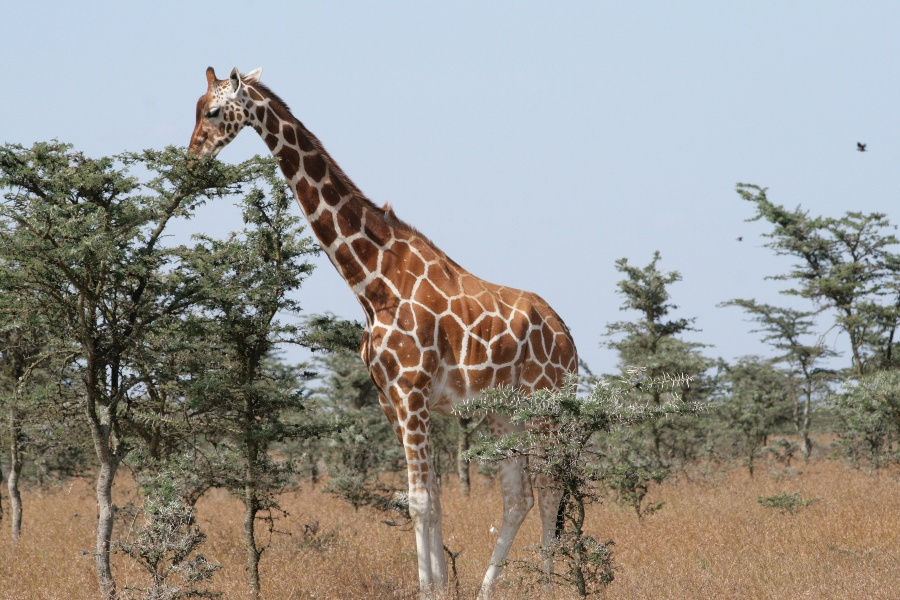giraffe: (172, 56, 606, 593)
